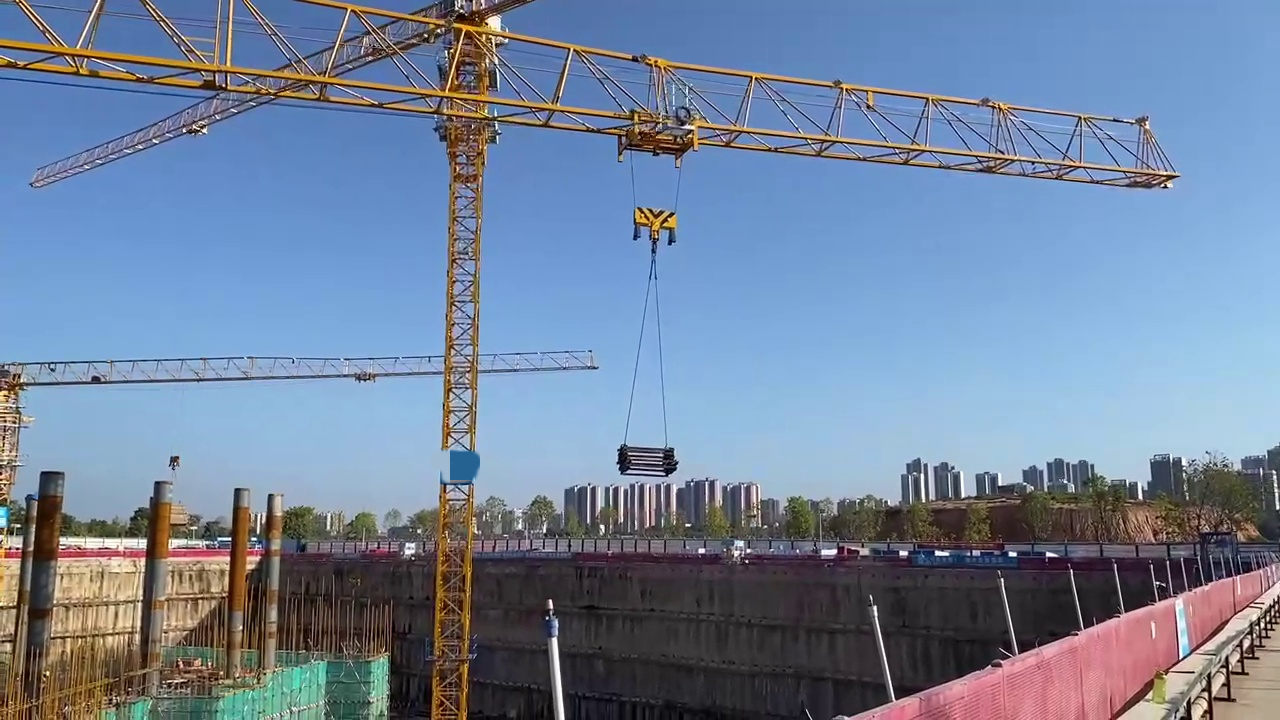fence: (832, 598, 1170, 720), (1170, 557, 1275, 649)
hook: (634, 207, 679, 241)
